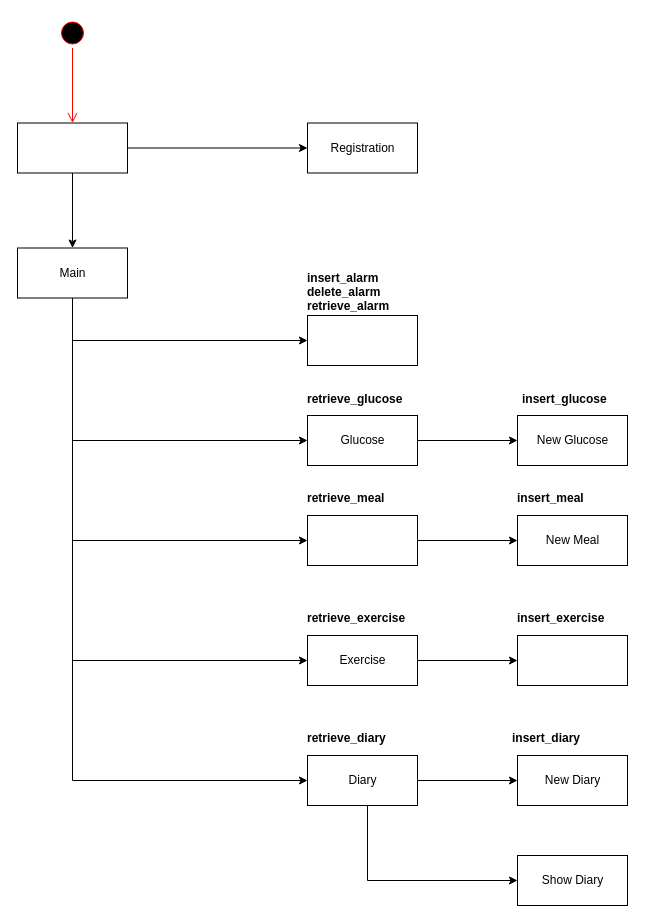
Image size: 655x923. Some labels were removed from this diagram. The shapes that lost their labels are listed below. From the top down, each one's centre as x and y in pixels, then its label:
At point (72, 147): "Login".
At point (362, 340): "Medication".
At point (362, 540): "Meal".
At point (572, 660): "New Exercise".
